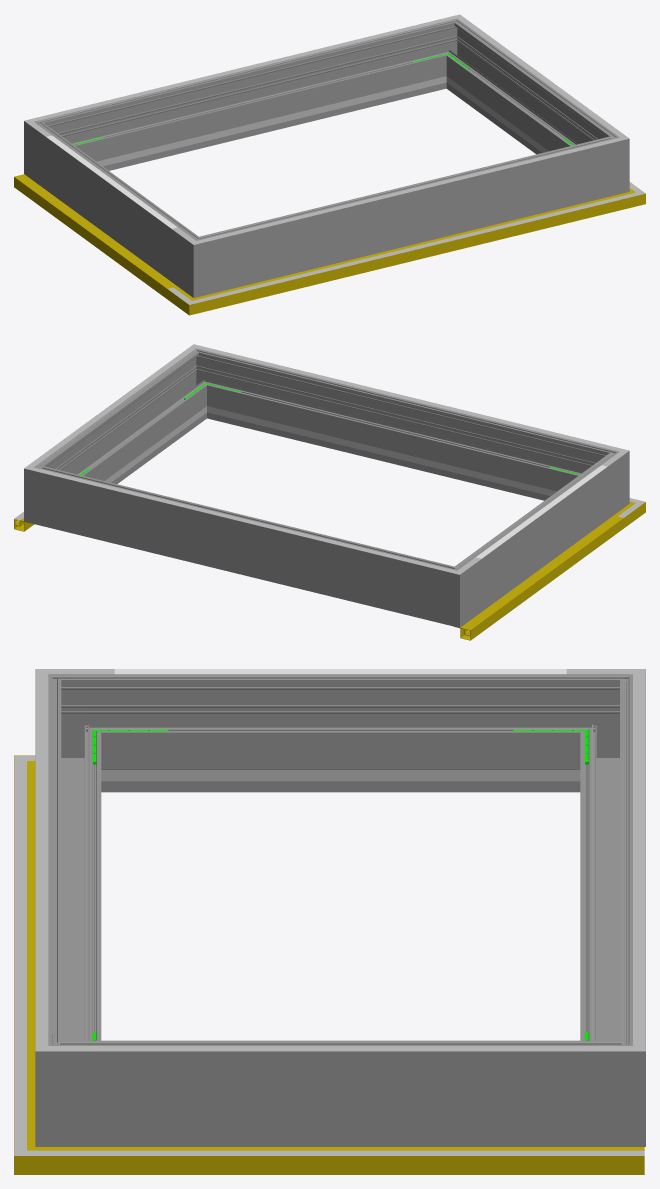
3 renders of one model, top to bottom at view 1: azimuth 30°, elevation 25°; view 2: azimuth 150°, elevation 25°; view 3: azimuth 270°, elevation 25°, orthographic. The views are drawn at different scales.
Visible parts, largest first — view 1: 3DGeom-276, 3DGeom-298, 3DGeom-297, 3DGeom-268, 3DGeom-11, 3DGeom-270, 3DGeom-6, 3DGeom-290, 3DGeom-244, 3DGeom-284, 3DGeom-278, 3DGeom-20 (+8 smaller); view 2: 3DGeom-298, 3DGeom-276, 3DGeom-297, 3DGeom-268, 3DGeom-278, 3DGeom-6, 3DGeom-284, 3DGeom-239, 3DGeom-290, 3DGeom-270, 3DGeom-304, 3DGeom-316 (+4 smaller); view 3: 3DGeom-268, 3DGeom-297, 3DGeom-298, 3DGeom-276, 3DGeom-16, 3DGeom-290, 3DGeom-284, 3DGeom-270, 3DGeom-278, 3DGeom-316, 3DGeom-20, 3DGeom-304 (+13 smaller).
Part boxes in pixels (bbox=[...]): 3DGeom-276: bbox=[65, 26, 440, 170]; 3DGeom-298: bbox=[225, 142, 591, 288]; 3DGeom-297: bbox=[450, 32, 601, 154]; 3DGeom-268: bbox=[46, 134, 183, 281]; 3DGeom-11: bbox=[222, 198, 607, 306]; 3DGeom-270: bbox=[171, 226, 231, 297]; 3DGeom-6: bbox=[14, 174, 177, 298]; 3DGeom-290: bbox=[584, 124, 629, 200]; 3DGeom-244: bbox=[110, 85, 409, 164]; 3DGeom-284: bbox=[425, 18, 480, 90]; 3DGeom-278: bbox=[24, 114, 80, 189]; 3DGeom-20: bbox=[224, 200, 607, 295]; 3DGeom-298: bbox=[213, 356, 587, 500]; 3DGeom-276: bbox=[62, 472, 428, 618]; 3DGeom-297: bbox=[52, 362, 203, 483]; 3DGeom-268: bbox=[469, 463, 607, 611]; 3DGeom-278: bbox=[422, 556, 481, 627]; 3DGeom-6: bbox=[454, 515, 623, 640]; 3DGeom-284: bbox=[24, 452, 68, 530]; 3DGeom-239: bbox=[243, 415, 542, 494]; 3DGeom-290: bbox=[178, 345, 227, 420]; 3DGeom-270: bbox=[573, 444, 629, 519]; 3DGeom-304: bbox=[62, 475, 424, 565]; 3DGeom-316: bbox=[228, 353, 590, 443]; 3DGeom-268: bbox=[114, 674, 566, 792]; 3DGeom-297: bbox=[114, 1040, 566, 1146]; 3DGeom-298: bbox=[35, 702, 101, 1040]; 3DGeom-276: bbox=[580, 702, 645, 1040]; 3DGeom-16: bbox=[93, 1147, 644, 1174]; 3DGeom-290: bbox=[35, 1018, 114, 1146]; 3DGeom-284: bbox=[567, 1018, 645, 1146]; 3DGeom-270: bbox=[35, 669, 114, 792]; 3DGeom-278: bbox=[567, 669, 645, 792]; 3DGeom-316: bbox=[35, 702, 48, 1017]; 3DGeom-20: bbox=[14, 789, 26, 1122]; 3DGeom-304: bbox=[633, 702, 645, 1017].
Bounding box in the file's own units: 1.83 × 0.2434 × 1.22.
